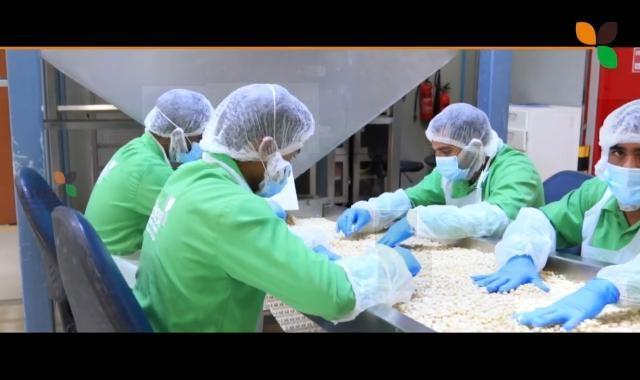apron: (515, 280, 627, 331), (466, 252, 551, 298), (378, 238, 432, 291), (375, 210, 417, 249), (332, 205, 378, 238)
gloves: (206, 83, 320, 153), (425, 101, 500, 160), (142, 86, 213, 144), (597, 99, 640, 162)
mask: (250, 140, 308, 199), (425, 147, 484, 189), (598, 156, 640, 215), (168, 134, 210, 168)
